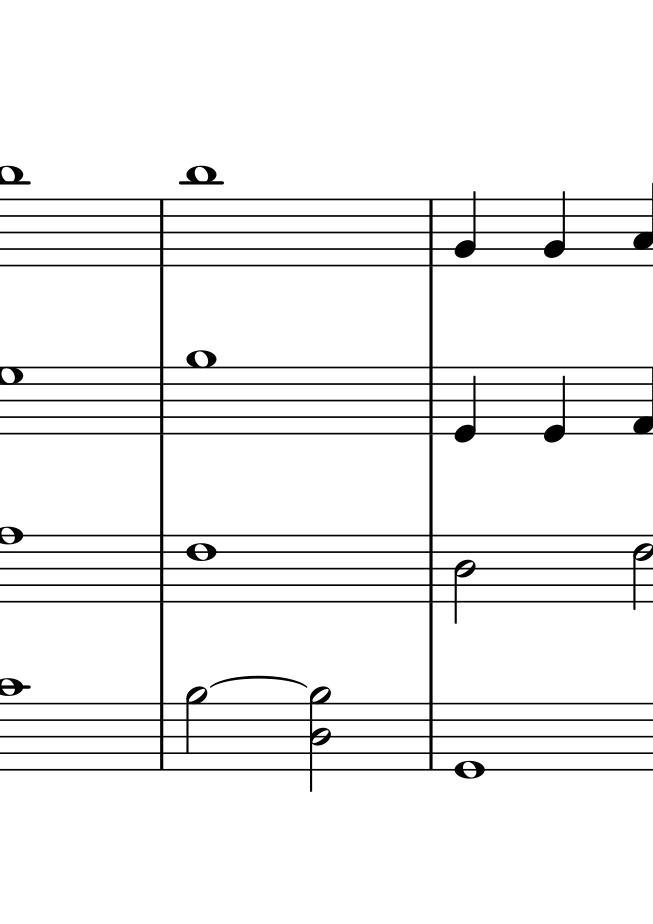1_0: (452, 696, 489, 781)
1_11: (184, 164, 220, 267)
1_6: (184, 532, 215, 607)
1_9: (184, 347, 216, 438)
2_4: (453, 532, 483, 624)
2_4_9: (308, 686, 332, 793)
2_6: (630, 532, 653, 617)
2_9: (184, 688, 211, 775)
4_0: (451, 363, 480, 442), (543, 363, 568, 443)
4_2: (453, 189, 482, 270), (544, 189, 570, 269)
Single_barline: (416, 534, 444, 604), (417, 366, 444, 435), (151, 535, 176, 602), (418, 703, 443, 769), (150, 367, 174, 435), (151, 701, 174, 771), (420, 198, 443, 266), (150, 199, 173, 266)
Slur: (201, 675, 307, 689)
